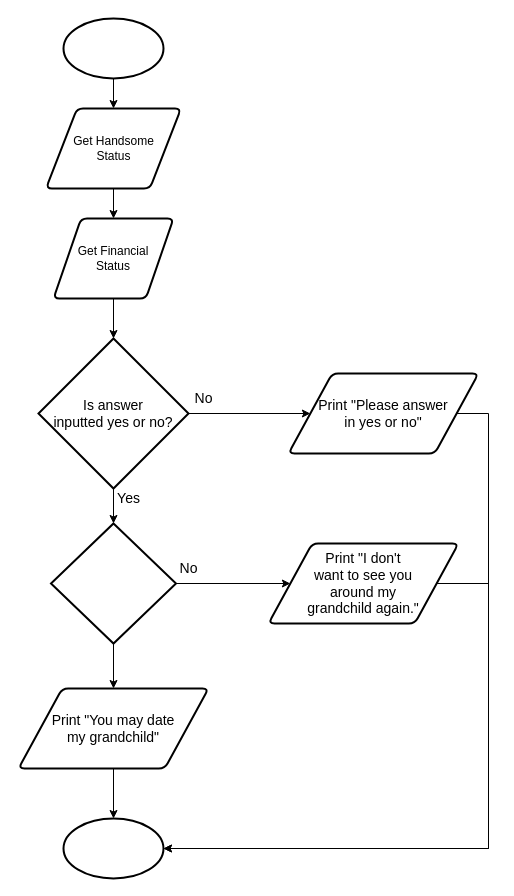
Some shapes in this 514 by 896 pixel diagram are drawn without their labels. The centre of each missing label's shape, as x and y in pixels:
"Are they rich and/or Handsome?" goes at point 113,583.
"Start" goes at point 113,48.
"Stop" goes at point 113,848.
